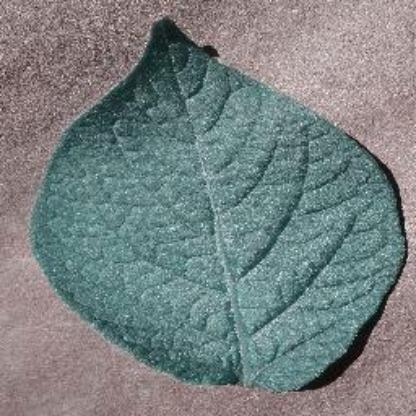Healthy-plant: (26, 15, 406, 393)
